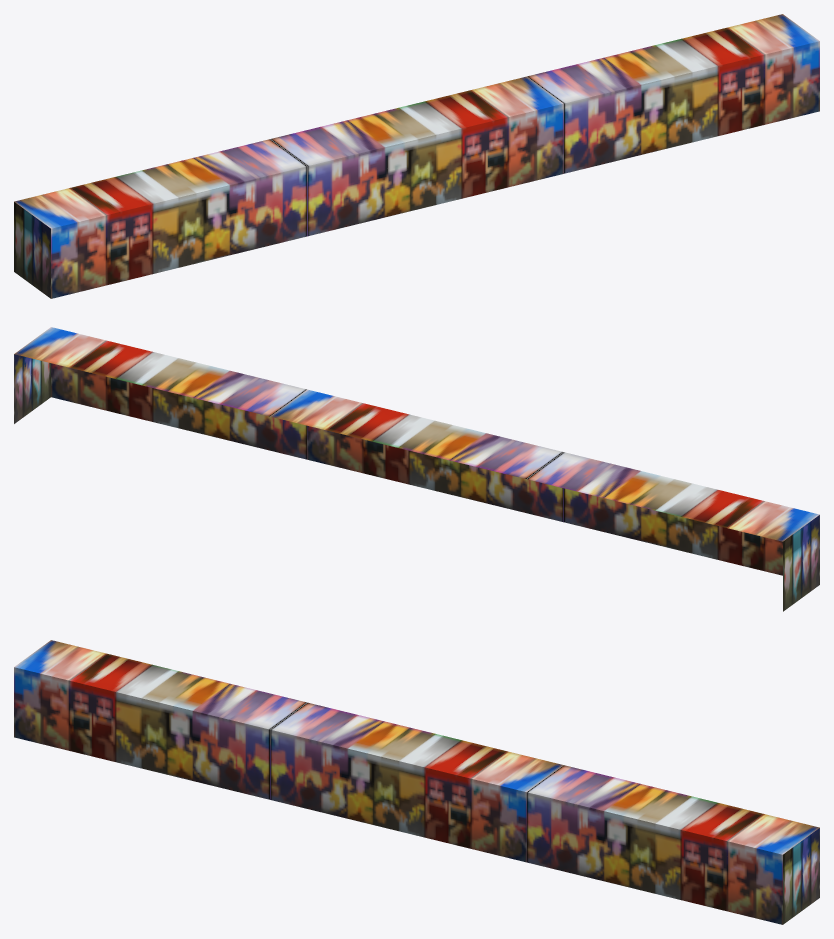
File: ObjectsOnShelf_B.fbx
3 views of the same model, one above another, from view 1: azimuth 30°, elevation 25°; view 2: azimuth 150°, elevation 25°; view 3: azimuth 330°, elevation 25° (orthographic).
Visible parts, largest first — view 1: ObjectsOnShelf_B_1; view 2: ObjectsOnShelf_B_1; view 3: ObjectsOnShelf_B_1.
Part boxes in pixels (<box>): ObjectsOnShelf_B_1: <box>14,14,819,298</box>; ObjectsOnShelf_B_1: <box>14,327,819,611</box>; ObjectsOnShelf_B_1: <box>14,640,819,924</box>.
Bounding box in the file's own units: 451 × 39.37 × 37.7.
